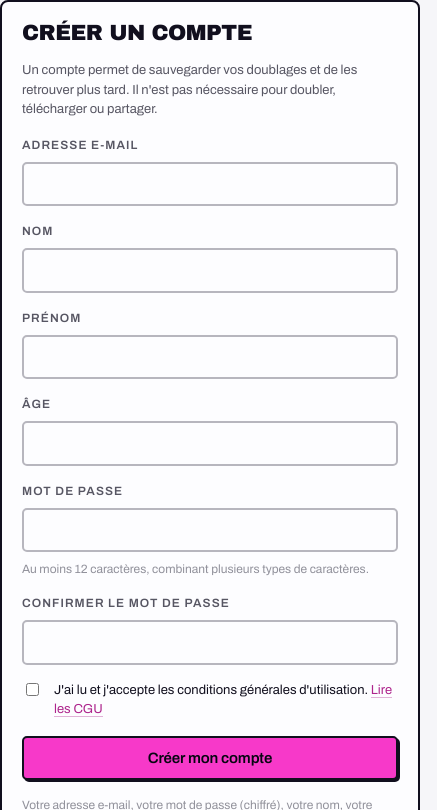
it: RegisterForm › bloque la soumission si nom, prénom ou âge sont manquants (mise à jour ST 4.1)
Type "alice@example.com" into the field labelled "Adresse e-mail".
click(210, 184); type("alice@example.com")  # box [36, 164, 384, 204]
Type "Alice" into the field labelled "Prénom".
click(210, 357); type("Alice")  # box [36, 337, 384, 377]
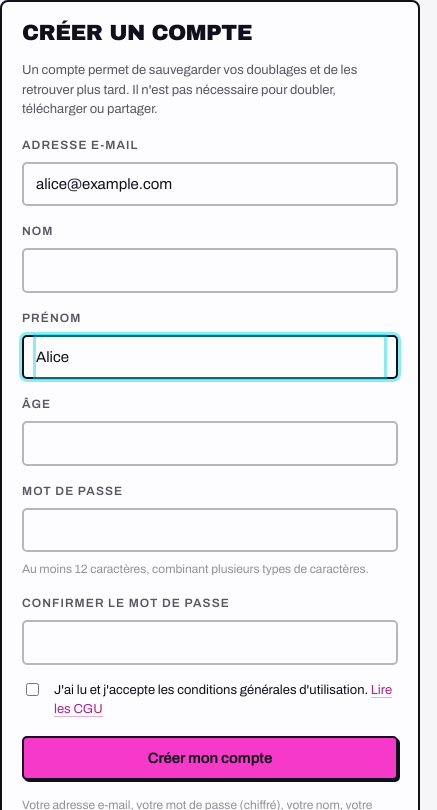
Type "28" into the field labelled "Âge".
click(210, 443); type("28")  # box [36, 423, 384, 464]
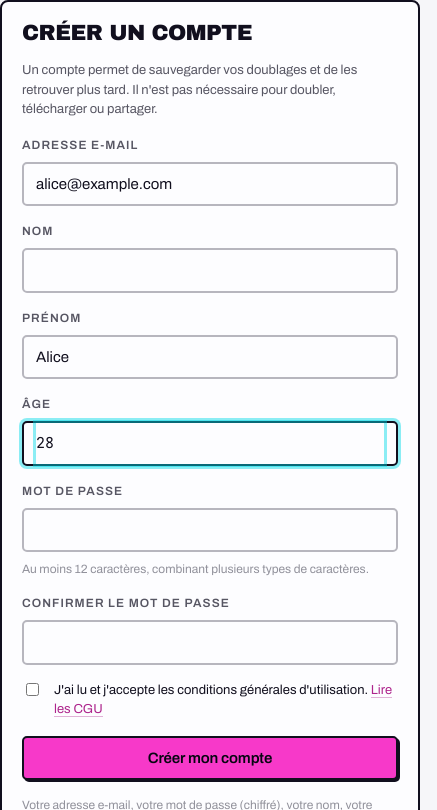
Type "Corr3ct-horse-battery" into the field labelled "Mot de passe".
click(210, 530); type("Corr3ct-horse-battery")  # box [36, 510, 384, 550]
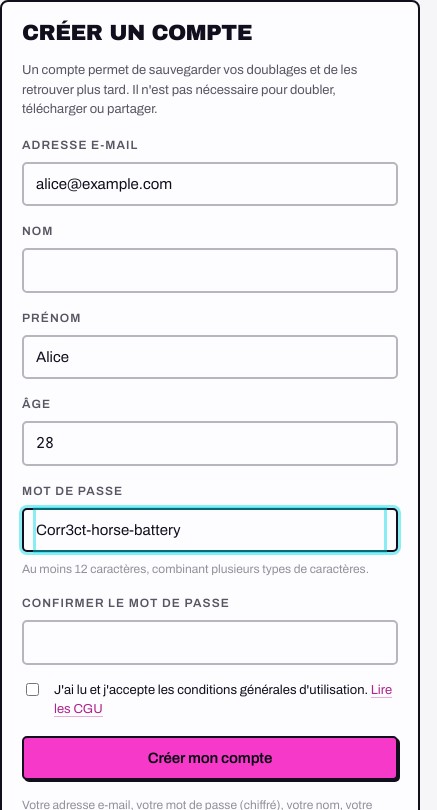
Type "Corr3ct-horse-battery" into the password field labelled "Confirmer le mot de passe".
click(210, 642); type("Corr3ct-horse-battery")  # box [22, 620, 398, 665]
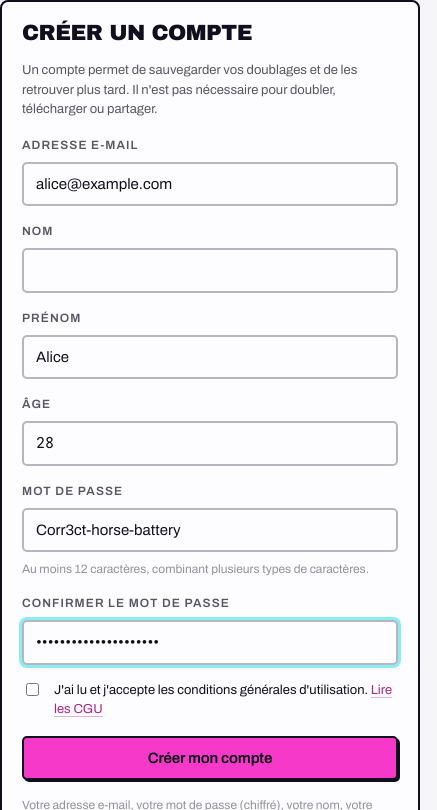
Click the checkbox labelled "conditions générales".
click(32, 690)  # box [26, 683, 39, 696]
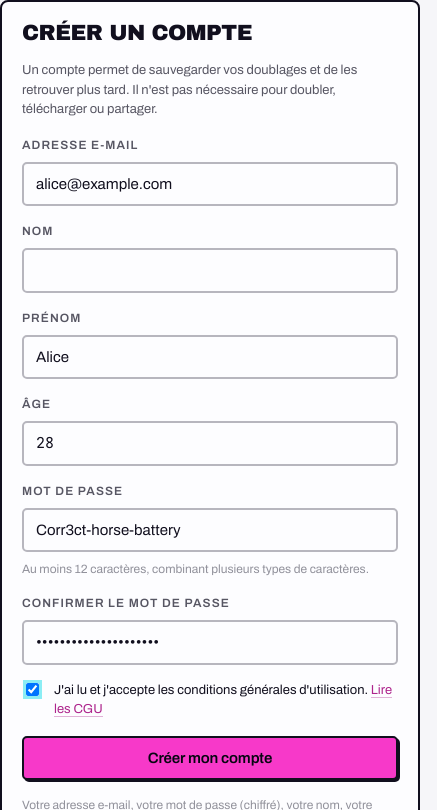
Click the button "Créer mon compte".
click(210, 758)  # box [22, 736, 398, 780]
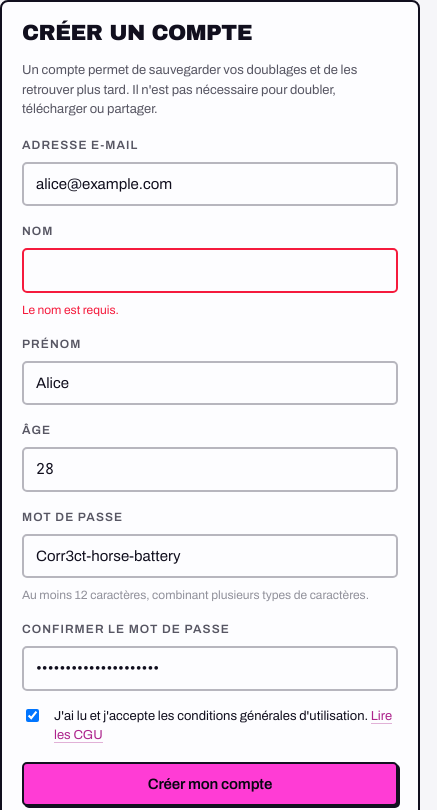
expect the text "Le nom est requis." is shown: met, box [22, 303, 119, 317]
